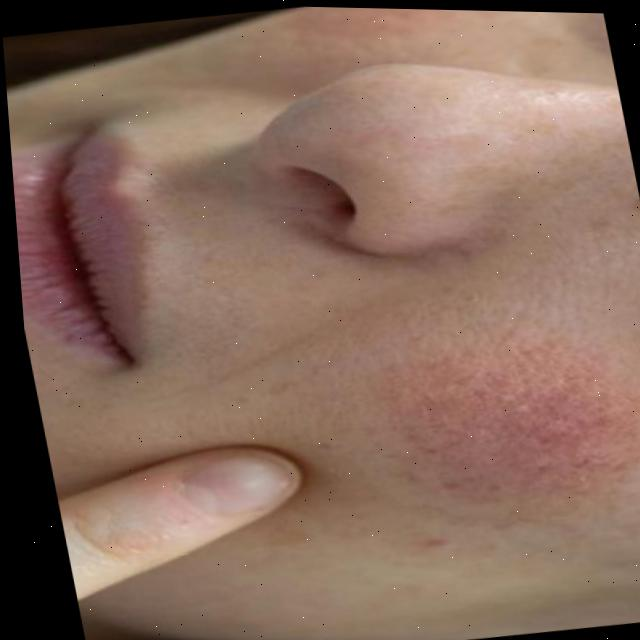Rosacea: (354, 306, 640, 518)
